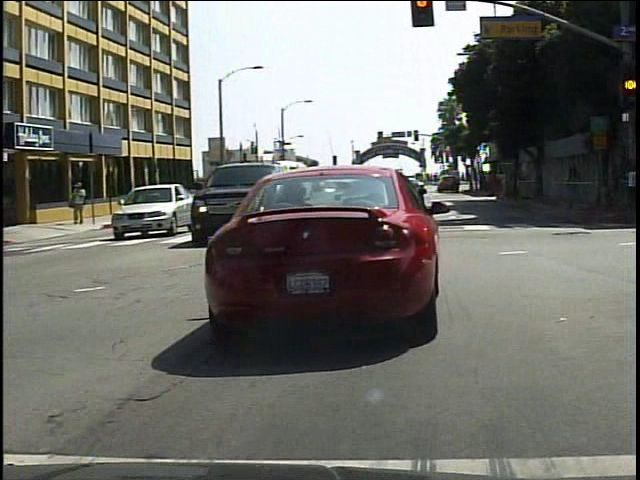person: (71, 178, 93, 226)
